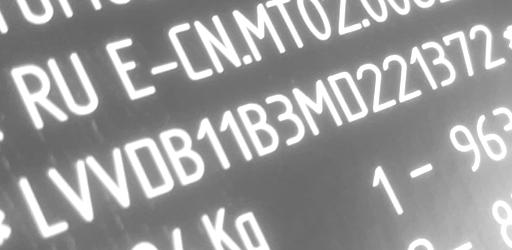letter: (122, 133, 174, 200), (16, 174, 70, 235), (48, 158, 96, 221), (160, 124, 206, 186), (85, 146, 129, 207), (295, 79, 341, 135), (237, 100, 277, 156), (328, 68, 368, 122), (196, 114, 232, 172), (266, 92, 304, 146), (382, 52, 422, 103), (356, 61, 394, 112), (220, 105, 252, 163), (422, 40, 456, 87), (470, 24, 504, 69), (444, 30, 474, 77), (408, 46, 438, 91)
